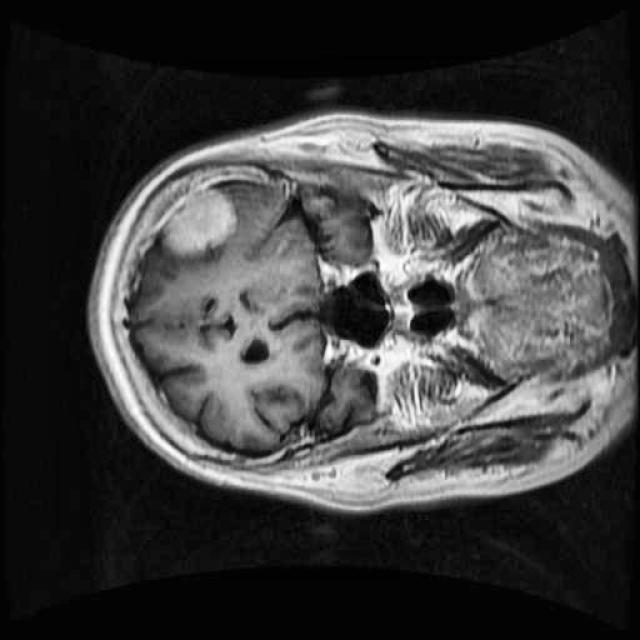Tumor: (152, 179, 242, 262)
